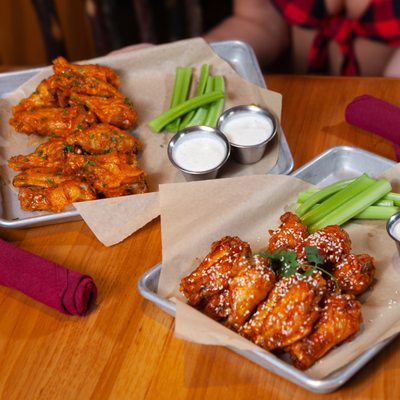pizza: (217, 105, 277, 164)
sushi: (216, 105, 278, 164), (167, 126, 230, 180)
